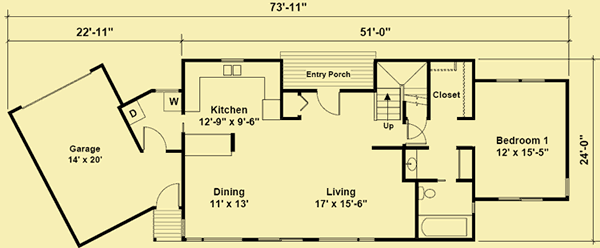door: (154, 181, 183, 209), (401, 119, 428, 148), (140, 126, 168, 153), (317, 91, 342, 118)
large_sink: (419, 181, 439, 201)
small_sink: (406, 149, 418, 181)
stairs: (280, 49, 377, 92), (150, 206, 184, 244)
tub: (418, 212, 472, 239)
twin_sink: (221, 64, 242, 79)
window: (495, 197, 543, 203), (490, 78, 544, 83)
